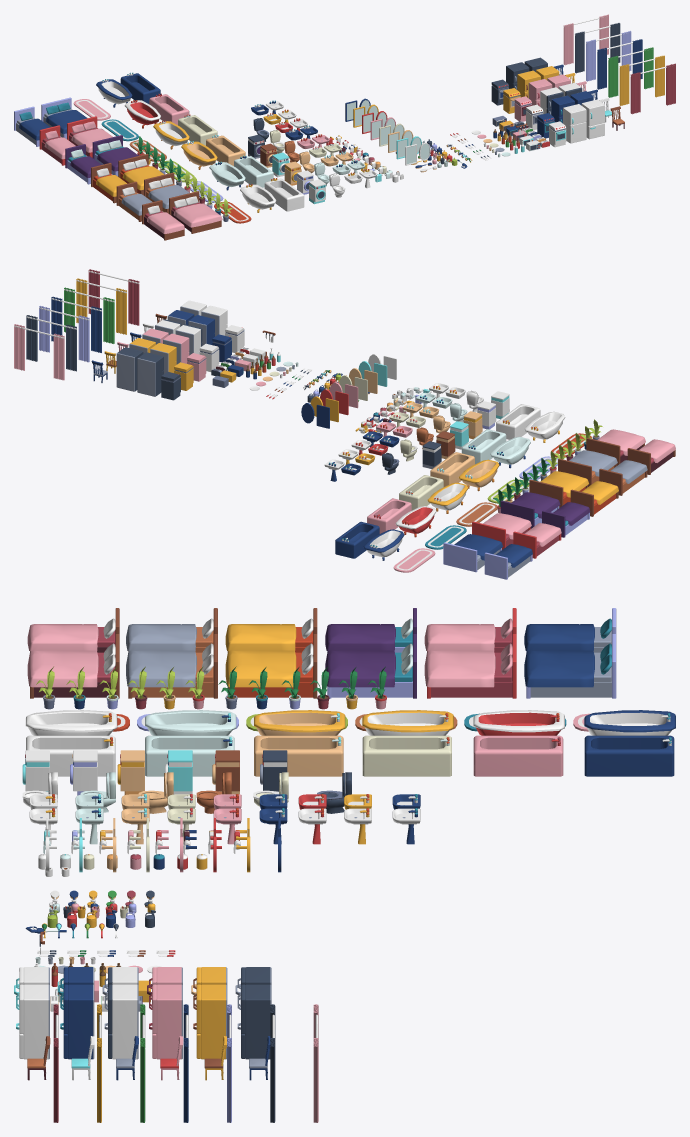
The model's file is MDL_Props_Furniture.fbx.
3 views of the same model, one above another, from view 1: azimuth 30°, elevation 25°; view 2: azimuth 150°, elevation 25°; view 3: azimuth 270°, elevation 25° (orthographic). The views are drawn at different scales.
Visible parts, largest first — view 1: MDL_Prop_BedBig01, MDL_Prop_BedSmall01, MDL_Prop_BedBig02, MDL_Prop_BedBig03, MDL_Prop_BedBig06, MDL_Prop_BedBig04, MDL_Prop_BedBig05, MDL_Prop_Curtain01, MDL_Prop_Curtain02, MDL_Prop_Curtain03, MDL_Prop_BathtubSquare01, MDL_Prop_Curtain07 (+24 smaller); view 2: MDL_Prop_BedBig06, MDL_Prop_BedBig04, MDL_Prop_BedBig02, MDL_Prop_BedBig03, MDL_Prop_BedBig05, MDL_Prop_BedSmall06, MDL_Prop_BedBig01, MDL_Prop_Curtain07, MDL_Prop_Curtain06, MDL_Prop_Curtain05, MDL_Prop_Curtain01, MDL_Prop_BathtubSquare06 (+26 smaller); view 3: MDL_Prop_BedBig06, MDL_Prop_BedBig03, MDL_Prop_BedBig02, MDL_Prop_BedBig04, MDL_Prop_BedBig01, MDL_Prop_BedBig05, MDL_Prop_BathtubSquare06, MDL_Prop_BathtubSquare05, MDL_Prop_BathtubSquare04, MDL_Prop_BathtubSquare03, MDL_Prop_BathtubSquare02, MDL_Prop_BathtubSquare01 (+24 smaller).
Boxes of the visible parts, <box> form: MDL_Prop_BedBig01: <box>169,191,222,233</box>; MDL_Prop_BedSmall01: <box>142,200,184,240</box>; MDL_Prop_BedBig02: <box>92,135,138,176</box>; MDL_Prop_BedBig03: <box>67,116,112,157</box>; MDL_Prop_BedBig06: <box>41,97,87,138</box>; MDL_Prop_BedBig04: <box>118,154,164,195</box>; MDL_Prop_BedBig05: <box>144,172,189,213</box>; MDL_Prop_Curtain01: <box>630,63,675,114</box>; MDL_Prop_Curtain02: <box>619,55,664,105</box>; MDL_Prop_Curtain03: <box>608,47,653,97</box>; MDL_Prop_BathtubSquare01: <box>264,178,304,211</box>; MDL_Prop_Curtain07: <box>563,14,608,65</box>; MDL_Prop_BedBig06: <box>443,534,502,572</box>; MDL_Prop_BedBig04: <box>529,471,588,507</box>; MDL_Prop_BedBig02: <box>500,492,560,528</box>; MDL_Prop_BedBig03: <box>472,513,531,549</box>; MDL_Prop_BedBig05: <box>558,450,617,486</box>; MDL_Prop_BedSmall06: <box>484,544,532,579</box>; MDL_Prop_BedBig01: <box>586,429,645,465</box>; MDL_Prop_Curtain07: <box>14,324,64,380</box>; MDL_Prop_Curtain06: <box>26,315,76,371</box>; MDL_Prop_Curtain05: <box>39,305,89,362</box>; MDL_Prop_Curtain01: <box>88,269,139,325</box>; MDL_Prop_BathtubSquare06: <box>335,521,379,558</box>; MDL_Prop_BedBig06: <box>524,634,616,698</box>; MDL_Prop_BedBig03: <box>424,634,516,698</box>; MDL_Prop_BedBig02: <box>325,634,416,698</box>; MDL_Prop_BedBig04: <box>225,634,317,698</box>; MDL_Prop_BedBig01: <box>27,634,119,698</box>; MDL_Prop_BedBig05: <box>126,634,217,698</box>; MDL_Prop_BathtubSquare06: <box>584,735,674,776</box>; MDL_Prop_BathtubSquare05: <box>473,735,563,776</box>; MDL_Prop_BathtubSquare04: <box>362,735,451,776</box>; MDL_Prop_BathtubSquare03: <box>254,735,343,776</box>; MDL_Prop_BathtubSquare02: <box>145,735,234,776</box>; MDL_Prop_BathtubSquare01: <box>26,735,115,776</box>.
Bounding box in the file's own units: 6154 × 533 × 3504.
